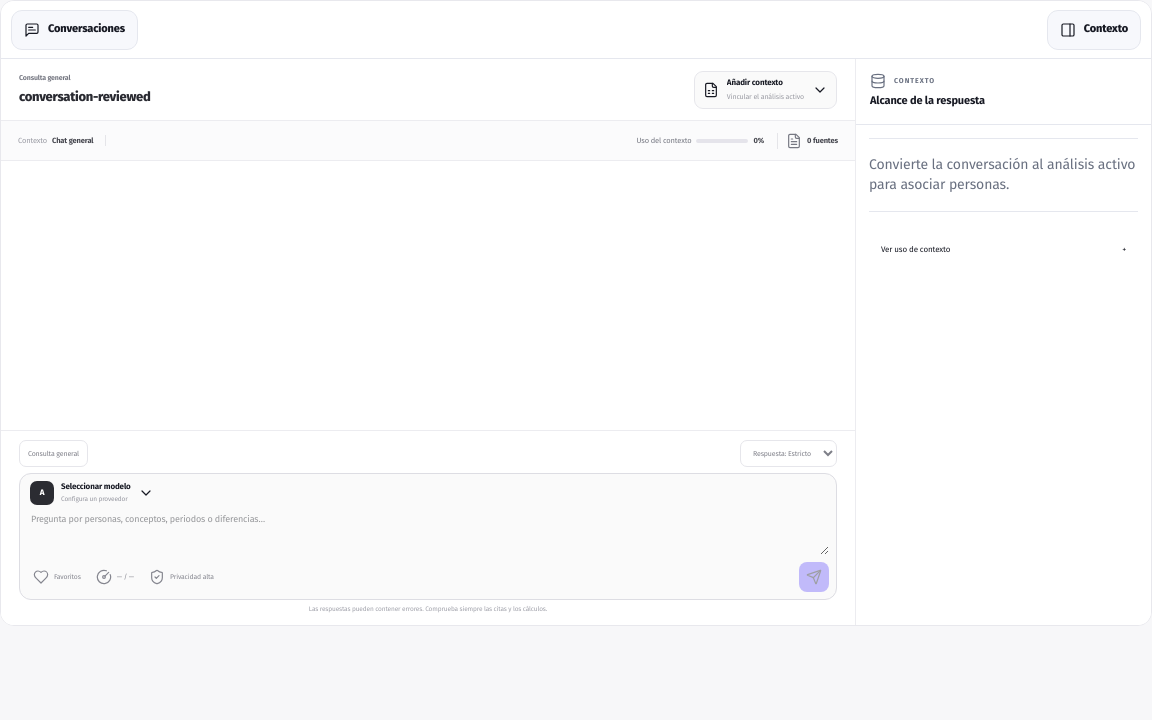
Test: Phase 5 reviewed provider behavior › shows grouped incremental text before local NDJSON completion and stops with retained partial content
Expected: the heading "conversation-reviewed" is shown, [19,87,150,106]
Type "¿Qué es Retributivo?" into the text box labelled "Pregunta" at (428, 530), box [27,505,829,555]
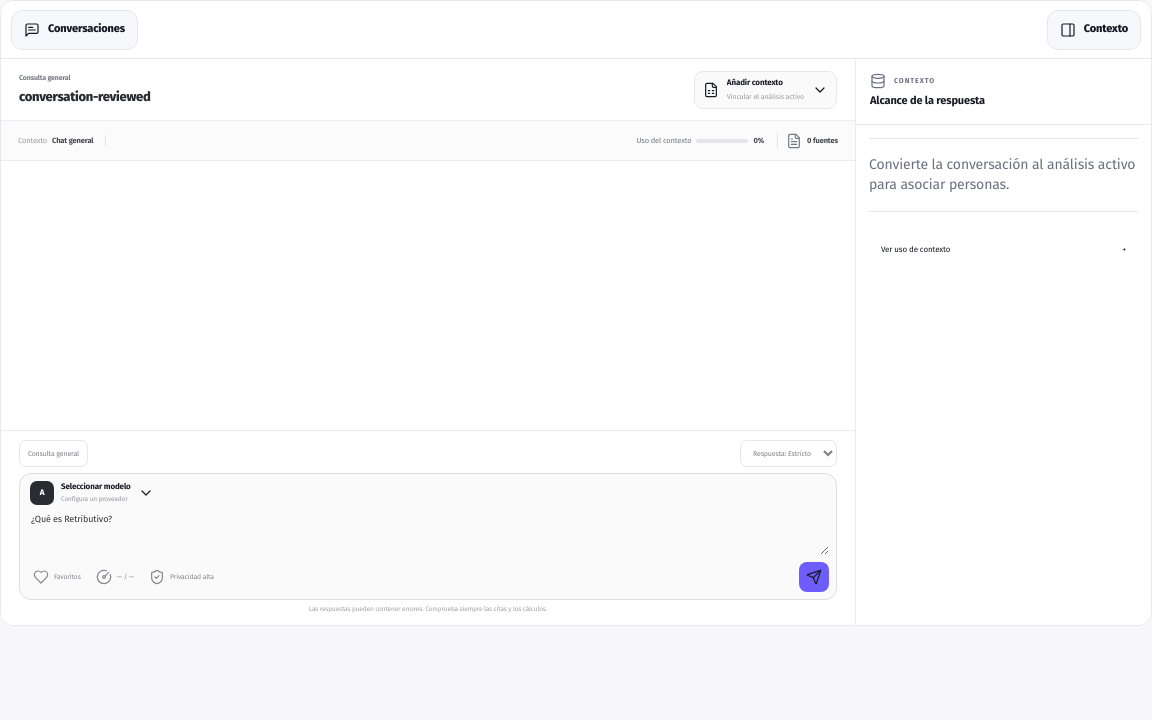
Press Enter in the text box named "Pregunta", box [27,505,829,555]
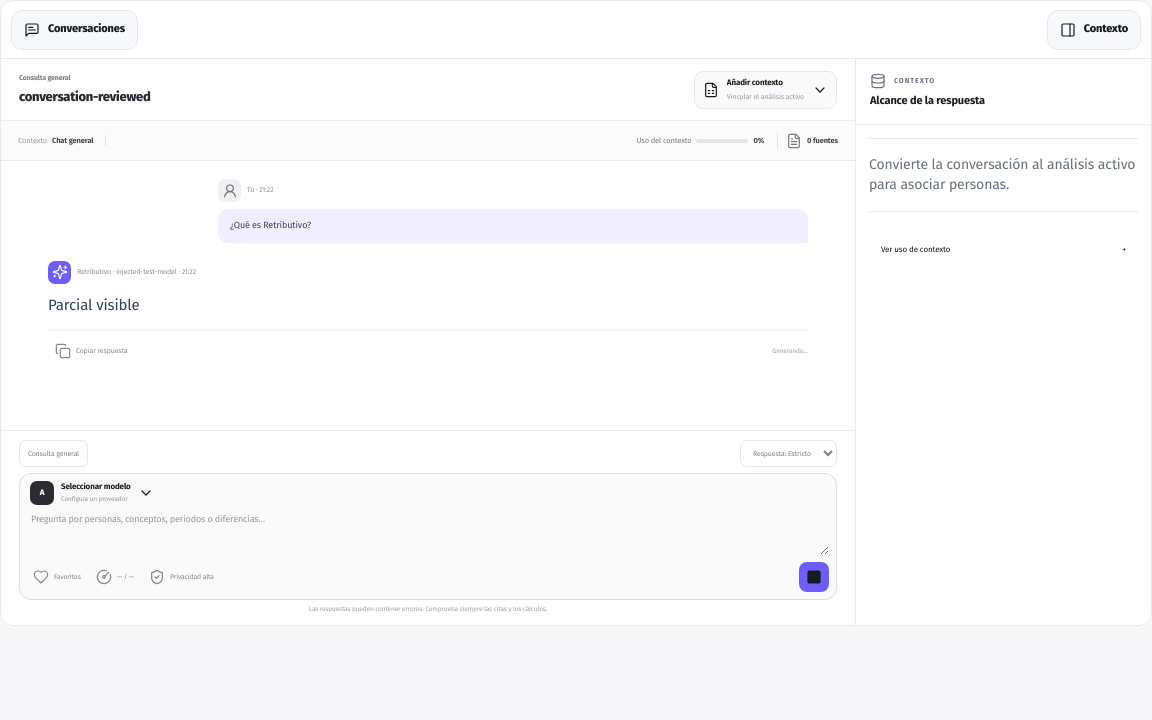
Now the text "Parcial visible" is shown, box [48,296,140,314]
Click the button named "Detener respuesta" at (814, 577), box [799,562,829,592]
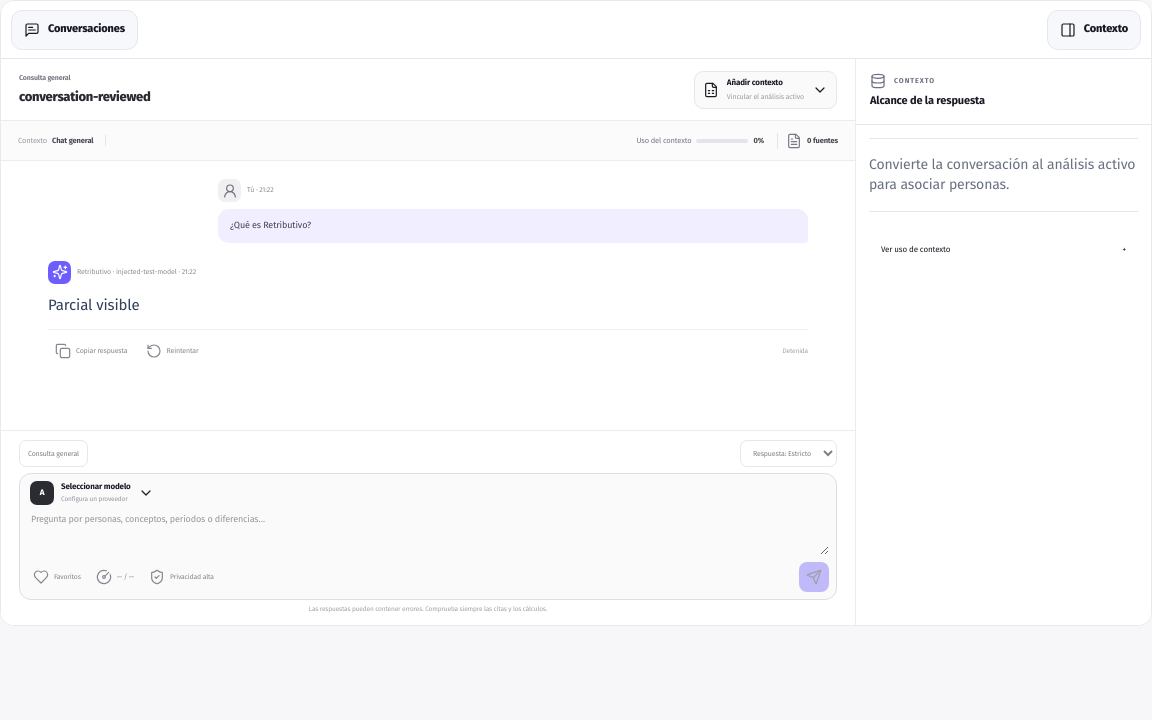
Now the text "Parcial visible" is shown, box [48,296,140,314]
Now the text "Detenida" is shown, box [782,346,808,356]
